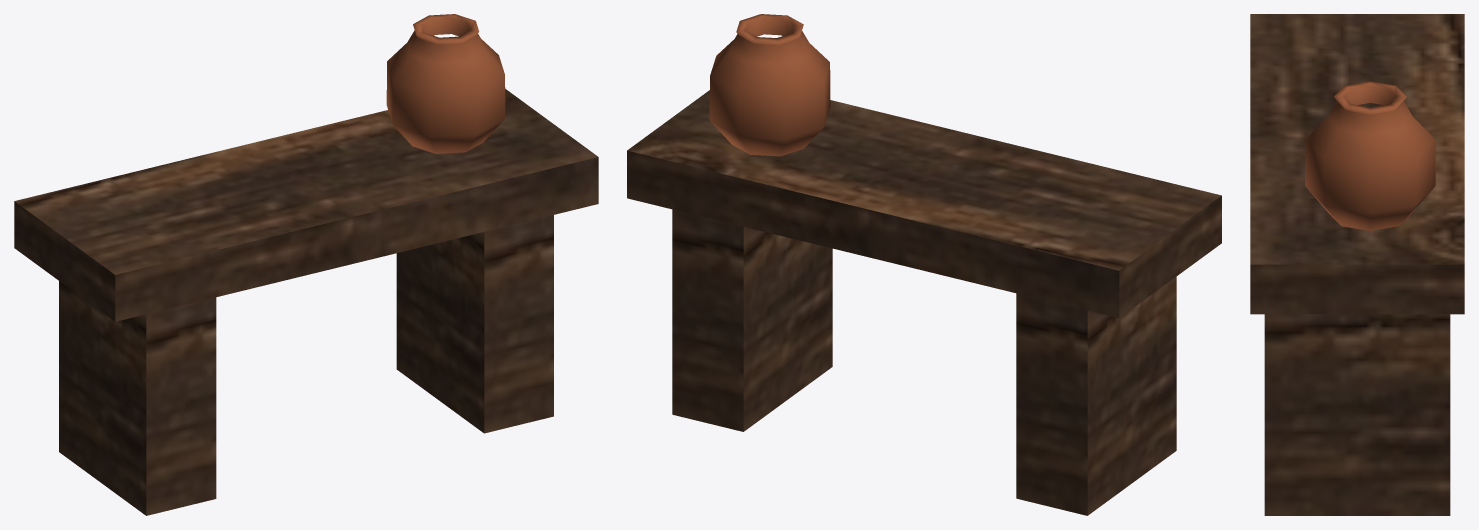
File: periodYardBench.glb
The picture shows the model from 3 angles, left to right: view 1: azimuth 30°, elevation 25°; view 2: azimuth 150°, elevation 25°; view 3: azimuth 270°, elevation 25°; orthographic projection. The views are drawn at different scales.
Visible parts, largest first — view 1: part_1, part_0; view 2: part_1, part_0; view 3: part_1, part_0.
Boxes of the visible parts, box(x1,y1,x2,y2) form: part_1: box(14, 89, 598, 515); part_0: box(386, 14, 505, 153); part_1: box(627, 90, 1221, 515); part_0: box(709, 14, 830, 156); part_1: box(1250, 14, 1464, 515); part_0: box(1305, 81, 1435, 231).
Bounding box in the file's own units: 0.83 × 0.6014 × 0.3.
2 materials, 1 textured.
